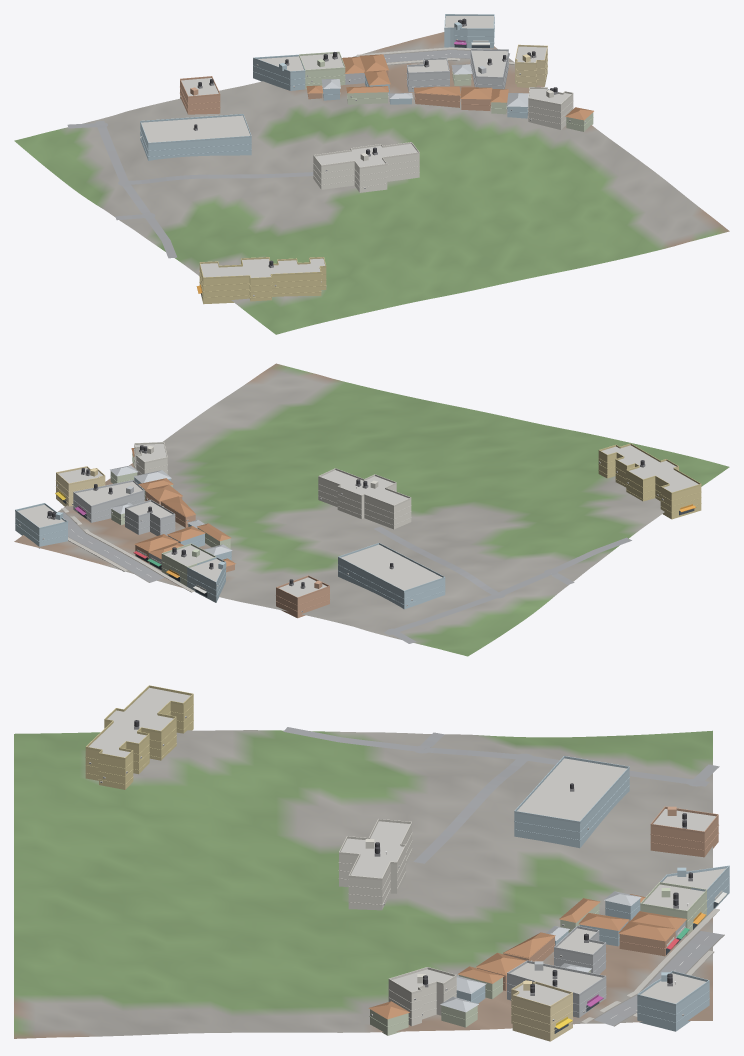
The picture shows the model from 3 angles, top to bottom: view 1: azimuth 30°, elevation 25°; view 2: azimuth 150°, elevation 25°; view 3: azimuth 270°, elevation 25°; orthographic projection. The views are drawn at different scales.
Visible parts, largest first — view 1: Terrain-col, Buildings-col, Details, Roads-col; view 2: Terrain-col, Buildings-col, Details, Roads-col, Sidewalks-col; view 3: Terrain-col, Buildings-col, Details, Roads-col, Sidewalks-col.
Part boxes in pixels (x1=…): Terrain-col: x1=14, y1=32, x2=729, y2=334; Buildings-col: x1=140, y1=16, x2=593, y2=304; Details: x1=140, y1=14, x2=593, y2=298; Roads-col: x1=67, y1=49, x2=509, y2=258; Terrain-col: x1=14, y1=363, x2=729, y2=656; Buildings-col: x1=15, y1=444, x2=701, y2=618; Details: x1=15, y1=442, x2=701, y2=612; Roads-col: x1=61, y1=512, x2=631, y2=643; Sidewalks-col: x1=61, y1=508, x2=194, y2=592; Terrain-col: x1=14, y1=730, x2=712, y2=1038; Buildings-col: x1=85, y1=687, x2=729, y2=1041; Details: x1=85, y1=685, x2=729, y2=1033; Roads-col: x1=283, y1=727, x2=724, y2=1026; Sidewalks-col: x1=581, y1=908, x2=719, y2=1023.
Bounding box in the file's own units: 279 × 21.24 × 262.
